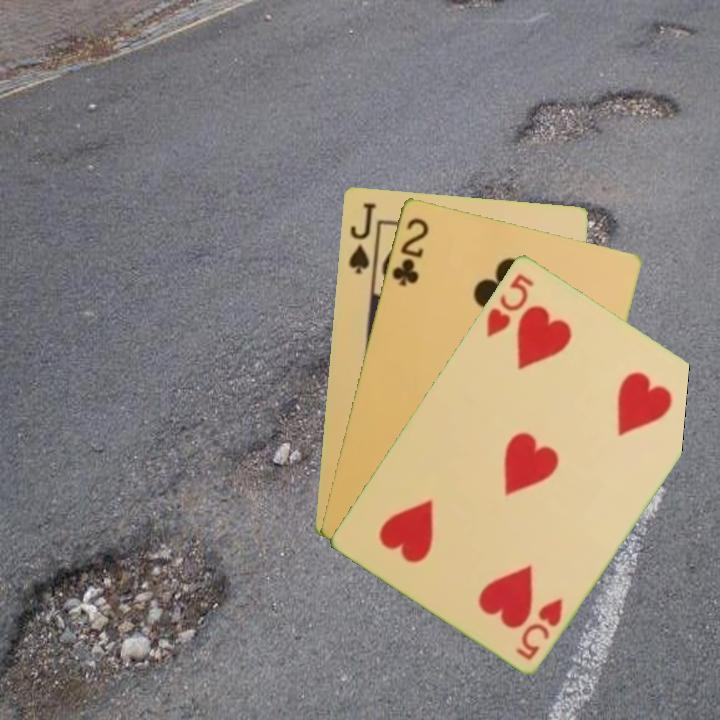2c: (388, 213, 431, 289)
5h: (482, 269, 537, 339), (511, 593, 566, 663)
Js: (344, 198, 379, 276)
